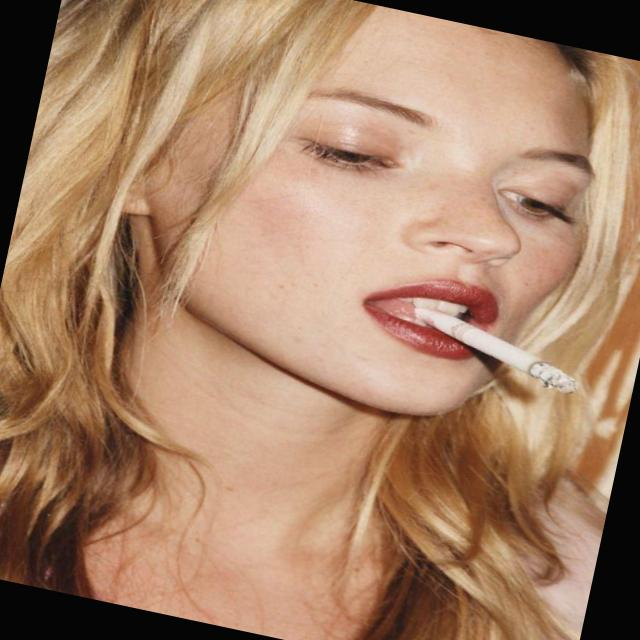smoke: (398, 276, 600, 402)
